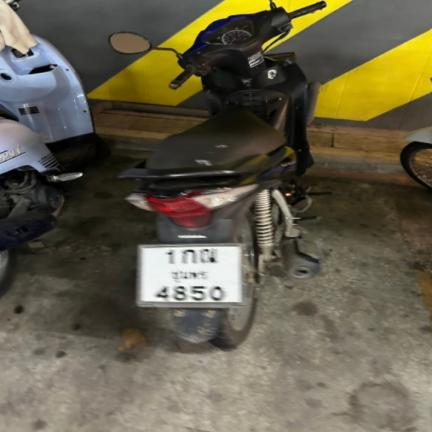0: (208, 286, 225, 301)
1: (164, 249, 177, 263)
4: (154, 284, 169, 300)
5: (190, 284, 207, 301)
8: (171, 284, 187, 300)
A01: (178, 249, 198, 264)
A19: (200, 248, 216, 263)
CPN: (167, 269, 208, 283)
